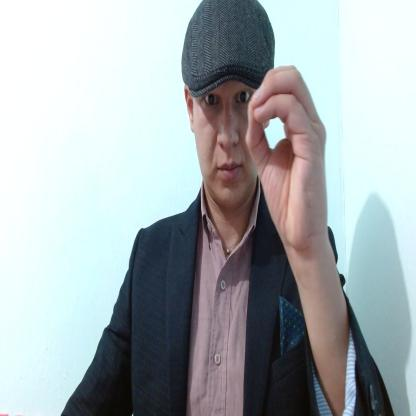O: (244, 62, 330, 247)
